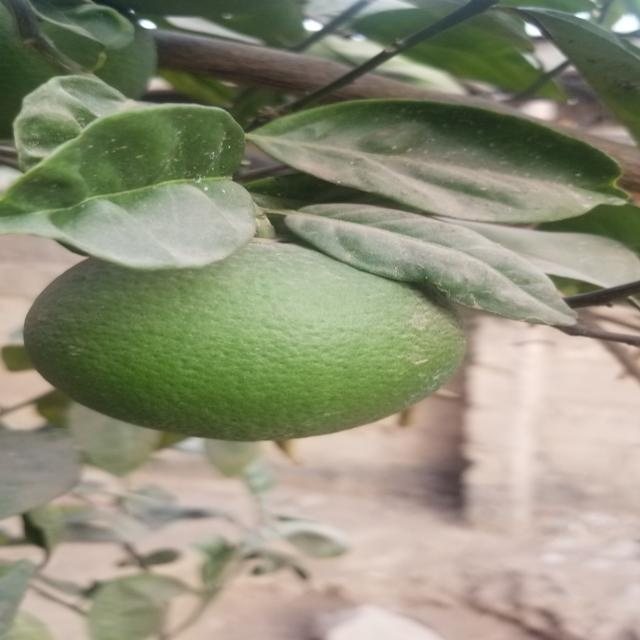agrume: (29, 249, 467, 429)
